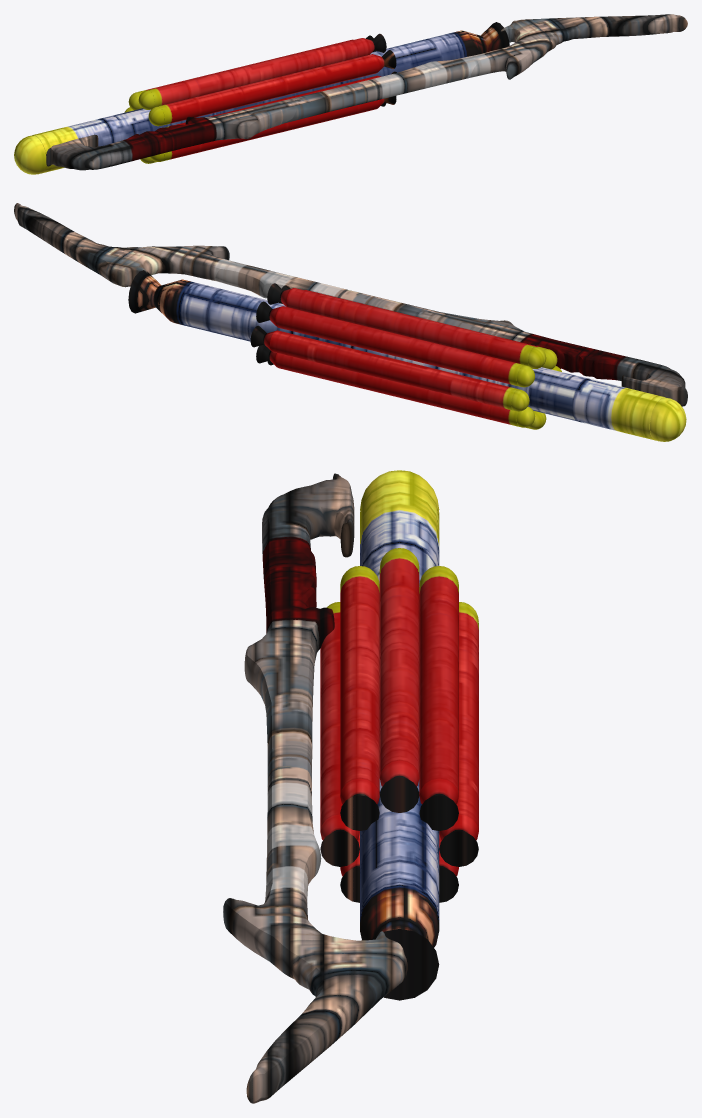
The model's file is RocketThrowerWithRockets.fbx.
3 renders of one model, top to bottom at view 1: azimuth 30°, elevation 25°; view 2: azimuth 150°, elevation 25°; view 3: azimuth 270°, elevation 25°, orthographic. The views are drawn at different scales.
Parts seen in each view (by area): view 1: RocketThrower, RocketBig, RocketSmall.001, RocketSmall, RocketSmall.003, RocketSmall.007, RocketSmall.002; view 2: RocketThrower, RocketBig, RocketSmall.006, RocketSmall.007, RocketSmall, RocketSmall.005, RocketSmall.001; view 3: RocketThrower, RocketBig, RocketSmall, RocketSmall.001, RocketSmall.007, RocketSmall.006, RocketSmall.002.
Part boxes in pixels (bbox=[...]): RocketThrower: bbox=[46, 14, 687, 170]; RocketBig: bbox=[14, 22, 509, 174]; RocketSmall.001: bbox=[148, 50, 396, 126]; RocketSmall: bbox=[138, 33, 386, 109]; RocketSmall.003: bbox=[150, 96, 396, 161]; RocketSmall.007: bbox=[128, 35, 375, 110]; RocketSmall.002: bbox=[166, 71, 396, 127]; RocketThrower: bbox=[14, 203, 687, 406]; RocketBig: bbox=[128, 270, 686, 441]; RocketSmall.006: bbox=[250, 325, 529, 411]; RocketSmall.007: bbox=[256, 301, 534, 387]; RocketSmall: bbox=[267, 283, 546, 368]; RocketSmall.005: bbox=[256, 344, 535, 427]; RocketSmall.001: bbox=[279, 285, 557, 369]; RocketThrower: bbox=[223, 473, 407, 1103]; RocketBig: bbox=[360, 470, 439, 1000]; RocketSmall: bbox=[379, 548, 419, 812]; RocketSmall.001: bbox=[340, 566, 379, 830]; RocketSmall.007: bbox=[419, 566, 458, 830]; RocketSmall.006: bbox=[439, 602, 478, 866]; RocketSmall.002: bbox=[320, 602, 359, 866].
Bounding box in the file's own units: 185 × 20 × 32.28.
Materials: 2 (2 with a texture image).
